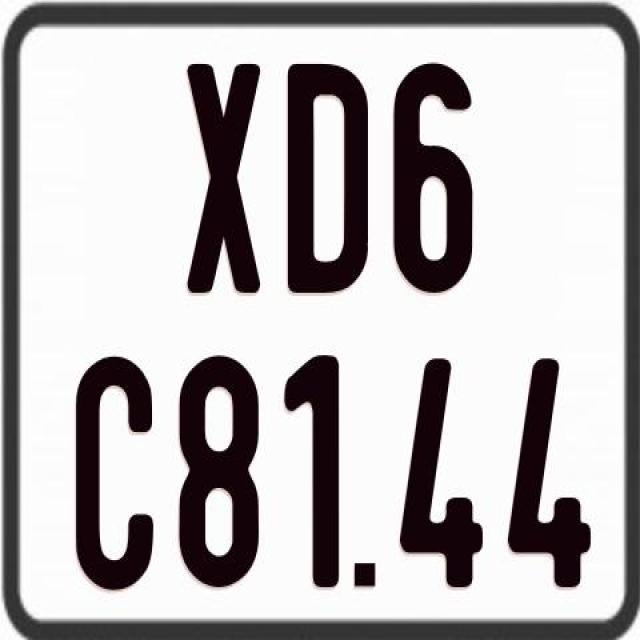1: (280, 356, 336, 594)
4: (398, 355, 486, 592), (508, 354, 591, 590)
6: (393, 59, 472, 298)
8: (175, 354, 258, 594)
C: (76, 354, 162, 588)
D: (284, 61, 372, 294)
X: (186, 59, 262, 291)
